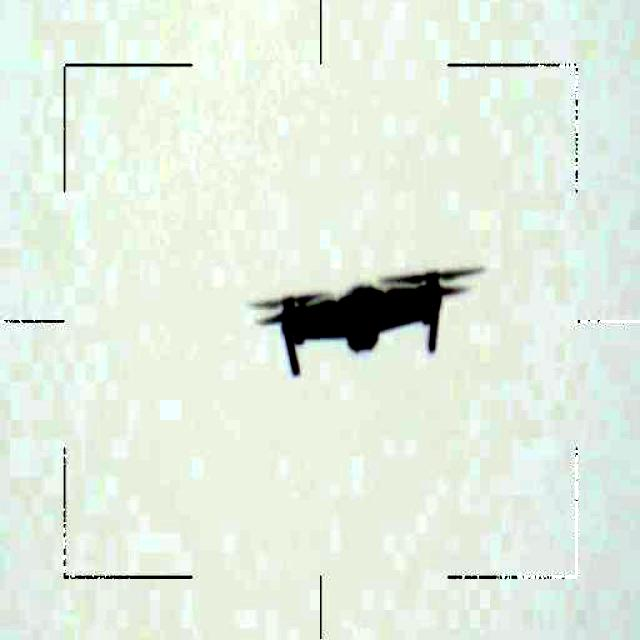bird: (246, 258, 475, 386)
